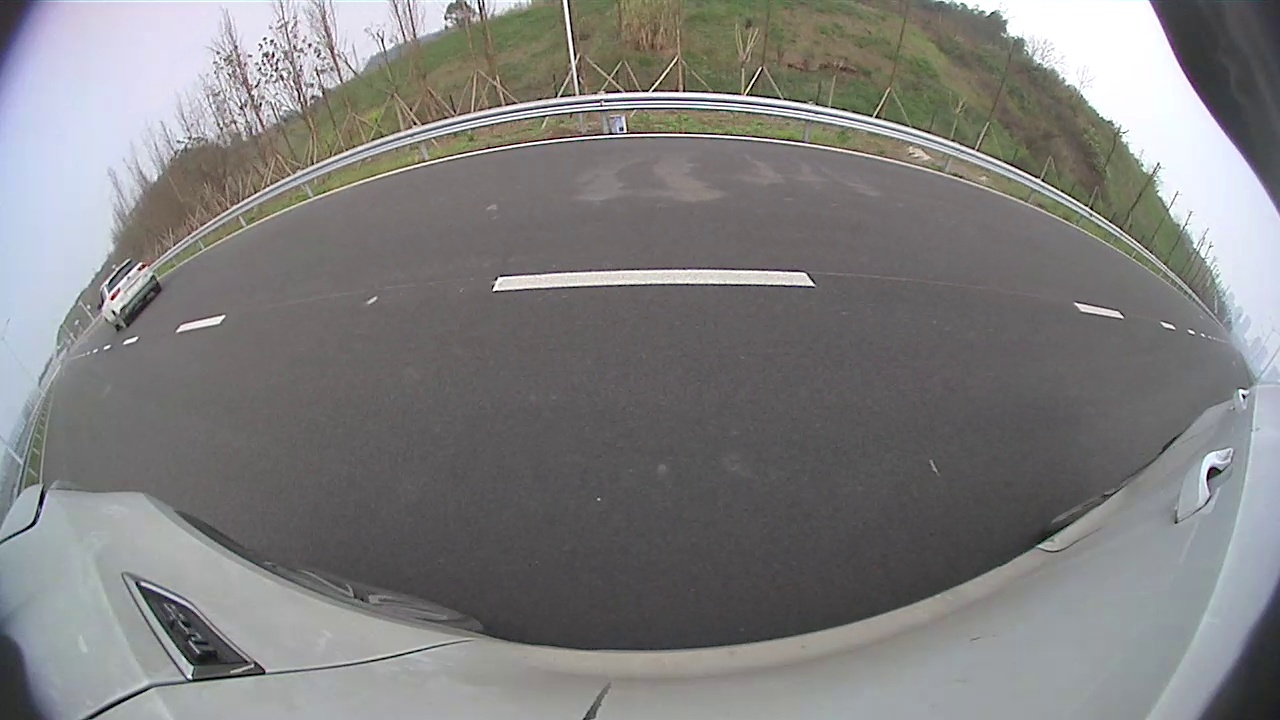car: (97, 258, 162, 330)
rear: (114, 314, 129, 329)
